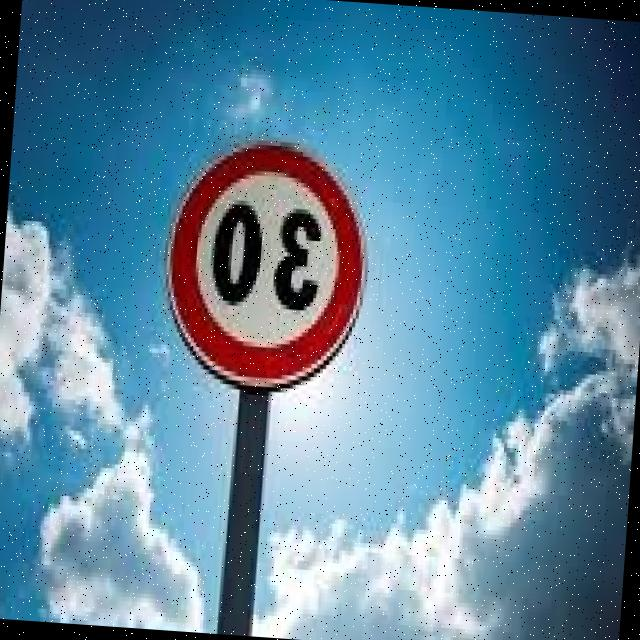speed_limit_30: (136, 122, 387, 409)
